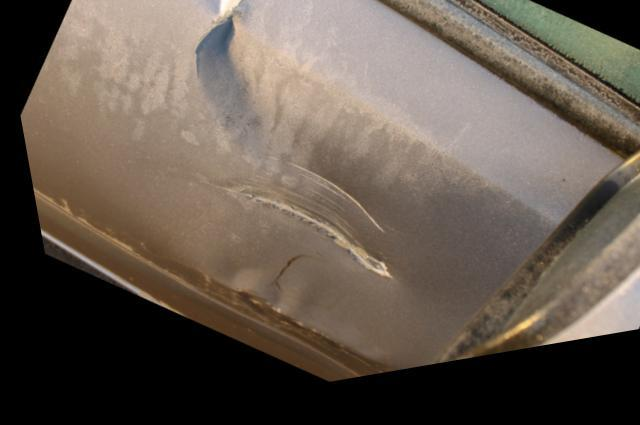dent: (208, 265, 355, 365), (196, 0, 258, 125)
scratch: (203, 156, 391, 300)
